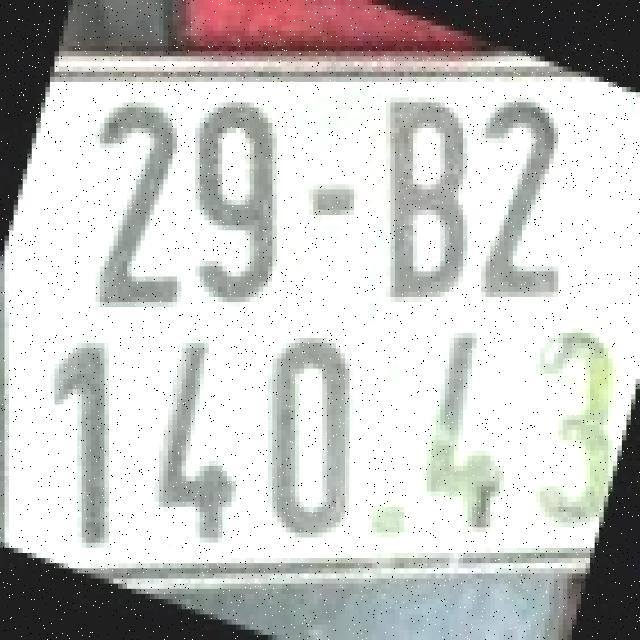0: (261, 328, 361, 538)
1: (43, 333, 129, 548)
2: (86, 94, 186, 310), (477, 90, 572, 304)
3: (526, 320, 618, 525)
4: (147, 330, 243, 546), (417, 320, 513, 535)
9: (191, 94, 286, 304)
B: (374, 90, 474, 304)
